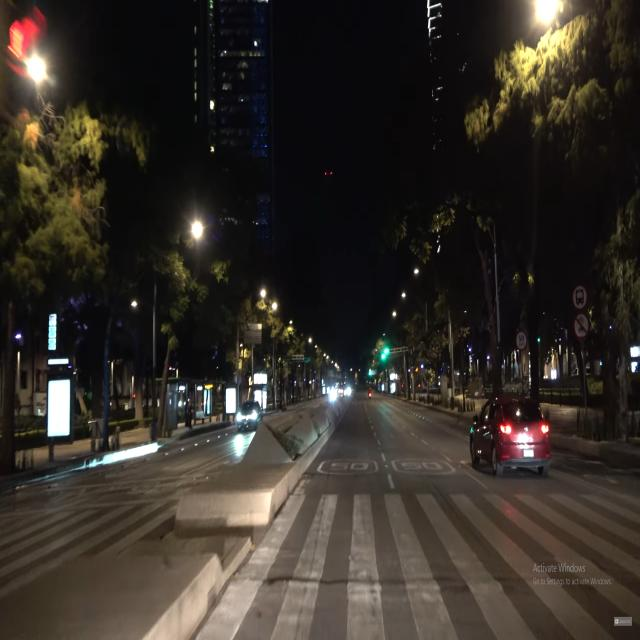headlights: (232, 407, 261, 426)
